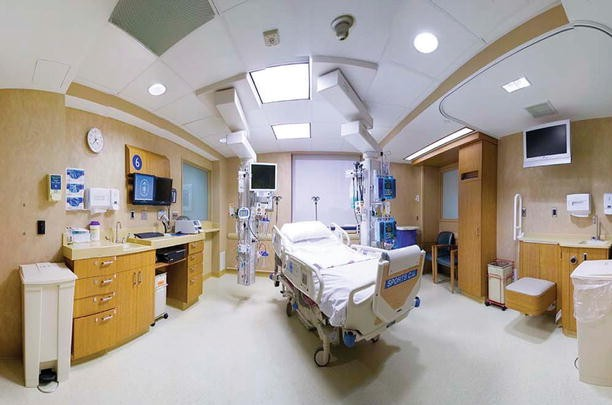TV: (523, 119, 572, 167)
bedrail: (281, 254, 323, 301), (329, 222, 350, 248), (272, 225, 286, 263), (351, 244, 384, 258)
bedside_monitor: (250, 163, 278, 192)
chair: (424, 231, 456, 281), (434, 243, 458, 293)
counter: (63, 237, 221, 368), (516, 234, 612, 342)
countertop: (66, 235, 212, 256)
dispenser: (86, 188, 120, 215), (566, 192, 594, 220), (47, 174, 61, 202), (602, 192, 612, 218)
faucet: (587, 213, 599, 242), (112, 221, 122, 248)
foot_board: (345, 249, 425, 340)
handle: (513, 193, 526, 241), (128, 269, 149, 290), (98, 275, 118, 287), (97, 310, 114, 322), (185, 252, 199, 263), (100, 259, 116, 268), (98, 297, 113, 304), (189, 244, 201, 251), (186, 267, 198, 273), (188, 280, 198, 285)
hospital_bed: (275, 219, 422, 370)
infusion_pump: (378, 177, 398, 201), (378, 218, 398, 242)
iv_pole: (311, 195, 321, 227)
sink: (569, 228, 612, 256), (108, 221, 141, 256)
waste_bin: (19, 263, 76, 393), (574, 259, 612, 394), (486, 255, 516, 310)
